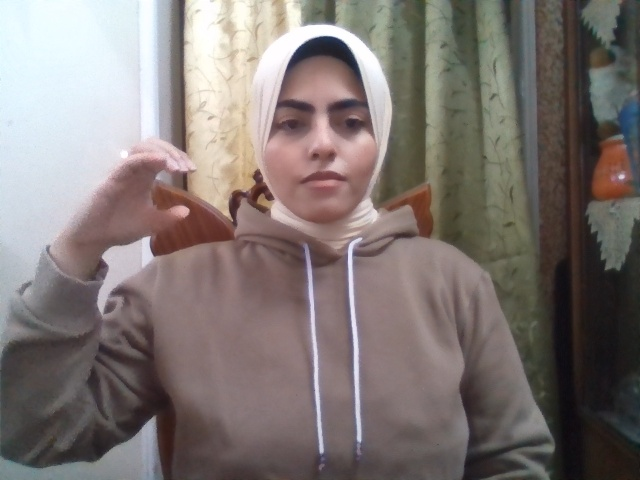C: (60, 137, 197, 250)
